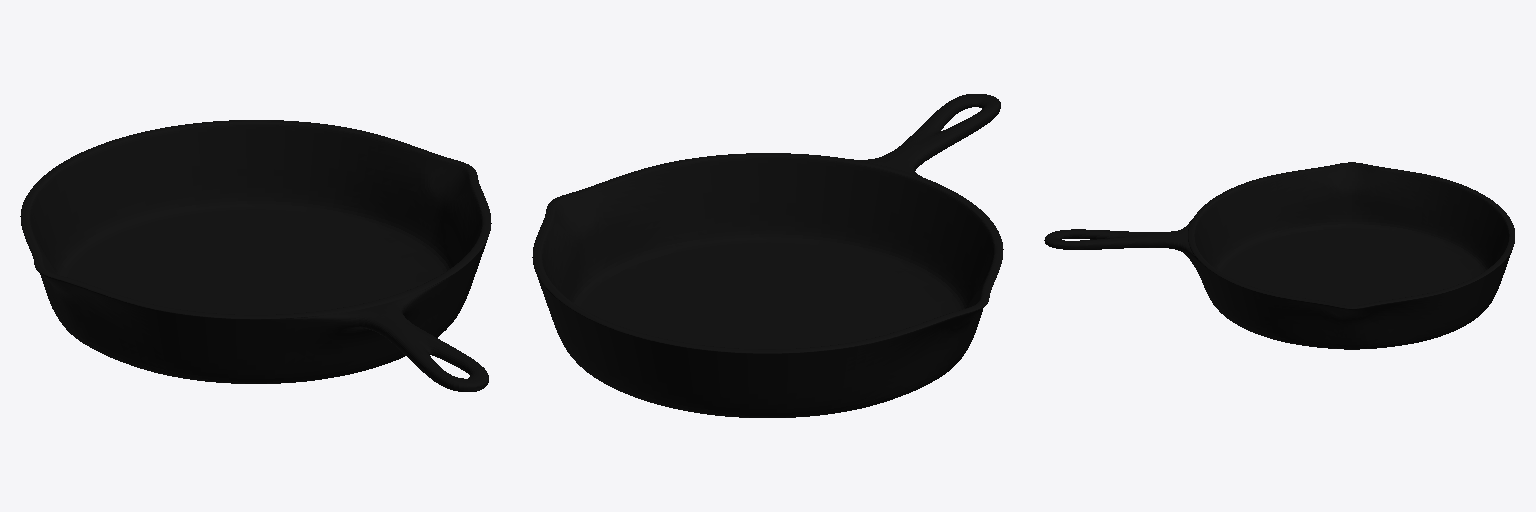
The robot description file, URDF, robot "skillet":
<robot name="skillet">
    <link name="skillet">
    	<collision>
    		<origin rpy="3.14 0 0" xyz="0 0 0" />
			<geometry>
				<mesh filename="skillet.stl" scale="0.2 0.2 0.2"/>
			</geometry>
	    </collision>
       	<visual>
       		<origin rpy="3.14 0 0" xyz="0 0 0" />
       		<material name="black">
        		<color rgba="0.1 0.1 0.1 1.0" />
      		</material>
			<geometry>
				<mesh filename="skillet.stl" scale="0.2 0.2 0.2"/>
			</geometry>
	    </visual>
	</link>
</robot>

--- What the picture shows (computed from the rendered views, not written in the file) ---
3 views of the same robot in one strip: view 1: azimuth 30°, elevation 25°; view 2: azimuth 150°, elevation 25°; view 3: azimuth 270°, elevation 25° (orthographic).
Model skillet with 1 links and 0 joints (none), rooted at skillet, posed all joints at 0.
Visible links, largest first — view 1: skillet; view 2: skillet; view 3: skillet.
Link boxes in pixels (left/top/right/bottom): skillet: left=20, top=120, right=491, bottom=391; skillet: left=532, top=94, right=1003, bottom=417; skillet: left=1044, top=162, right=1514, bottom=349.
Size in the robot's own frame: 0.242 by 0.3291 by 0.0443 metres.
Meshes: 1 distinct files referenced, 1 mesh visuals loaded (1 binary STL).